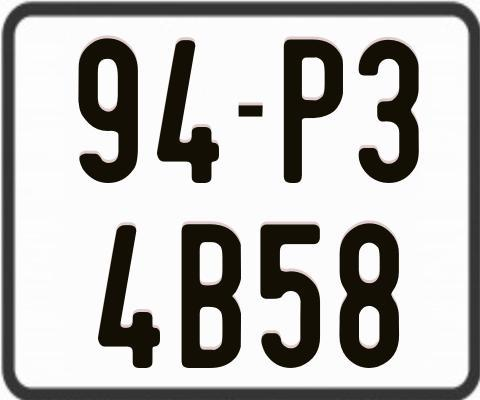3: (358, 38, 419, 186)
4: (155, 38, 222, 185), (96, 225, 162, 373)
5: (257, 221, 321, 370)
8: (336, 223, 401, 372)
9: (78, 35, 144, 182)
B: (181, 222, 240, 372)
P: (282, 36, 342, 184)
